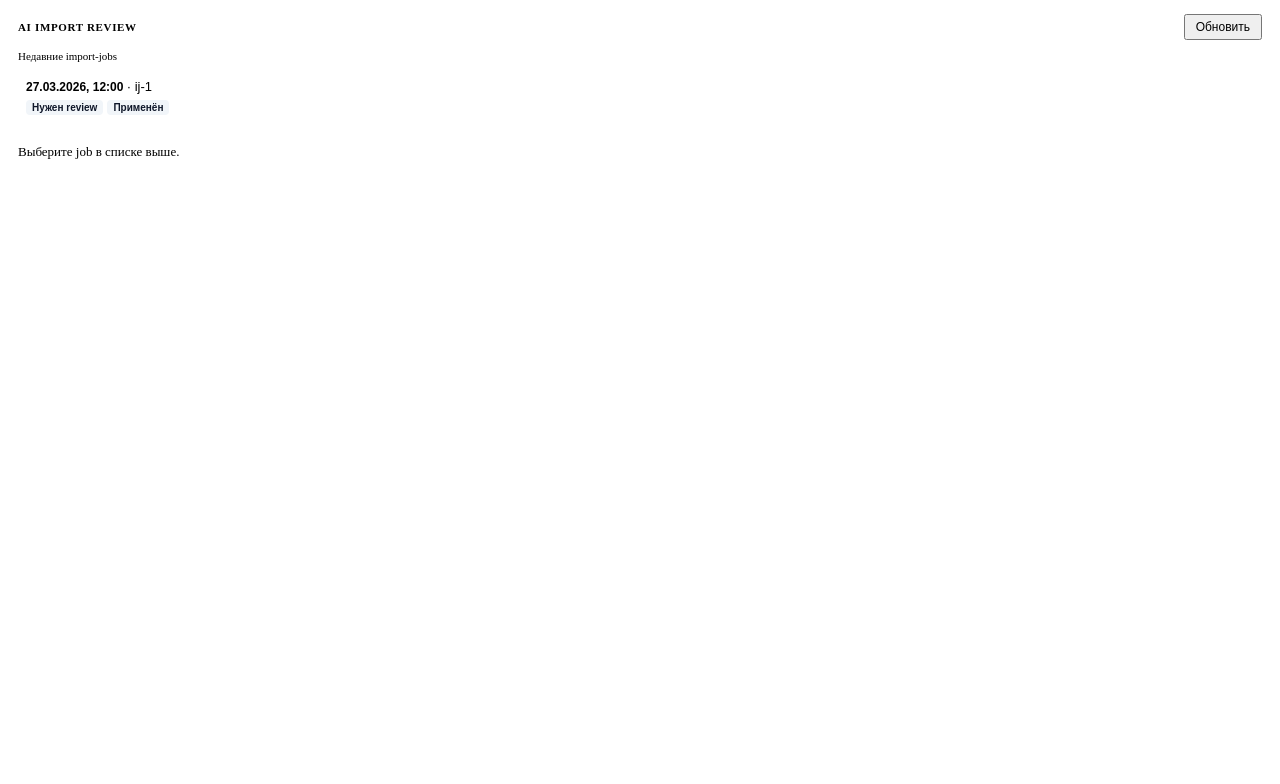
Test: ImportReviewPanel integration › если apply успешен, а post-refresh падает — показывается предупреждение
Click the button with test id "ir-job-row-ij-1" at coordinates (75, 86), box [18,70,1262,125]
(page scrolled)
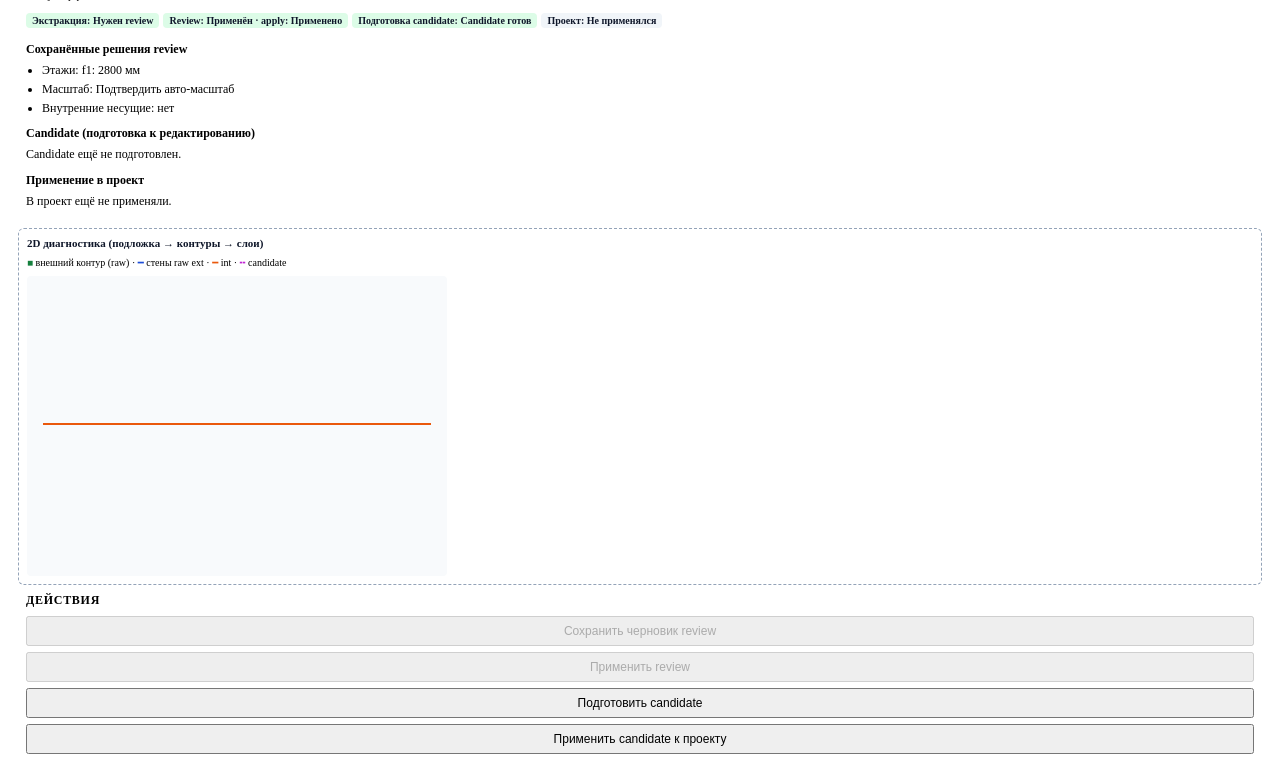
Result: the button with test id "ir-apply-candidate" is shown
Click the button with test id "ir-apply-candidate" at coordinates (640, 738), box [26,724,1254,754]
(page scrolled)
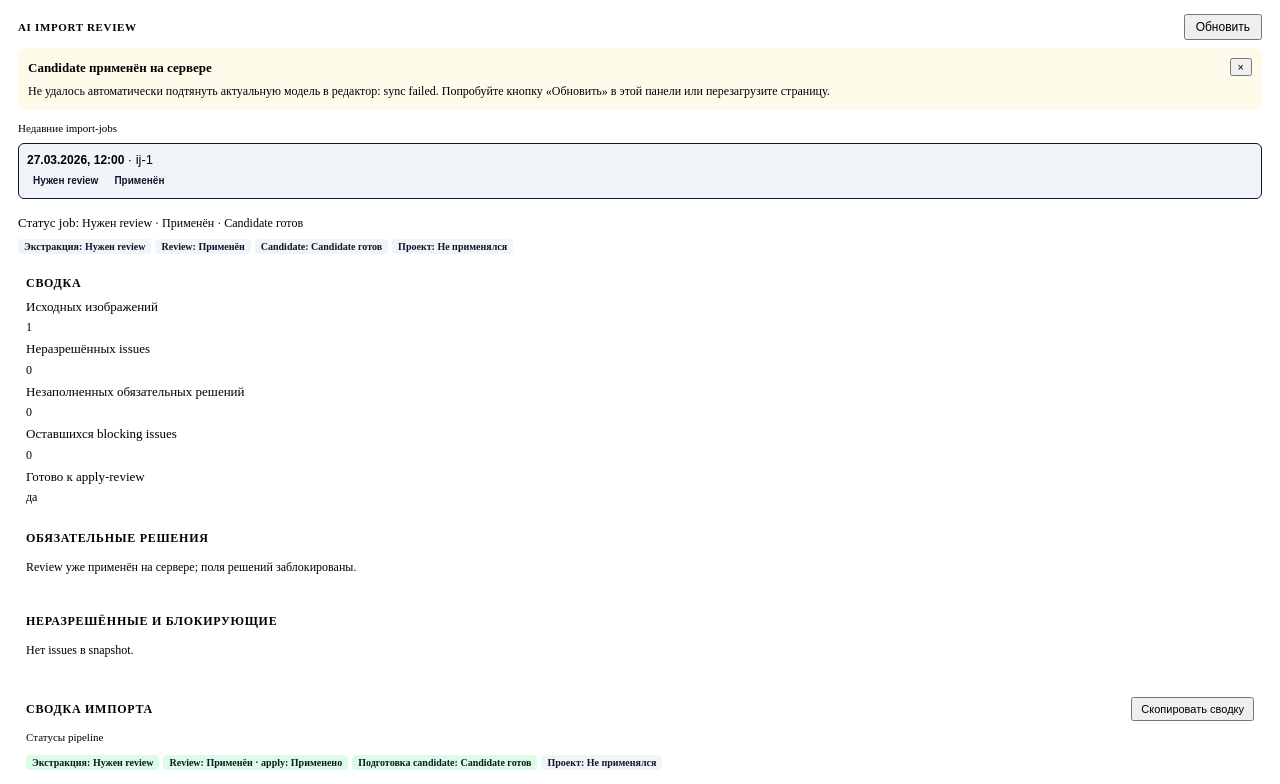
Result: the text "Candidate применён на сервере" is shown at [28,60,212,75]
Result: the text "sync failed" is shown at [28,84,830,98]
